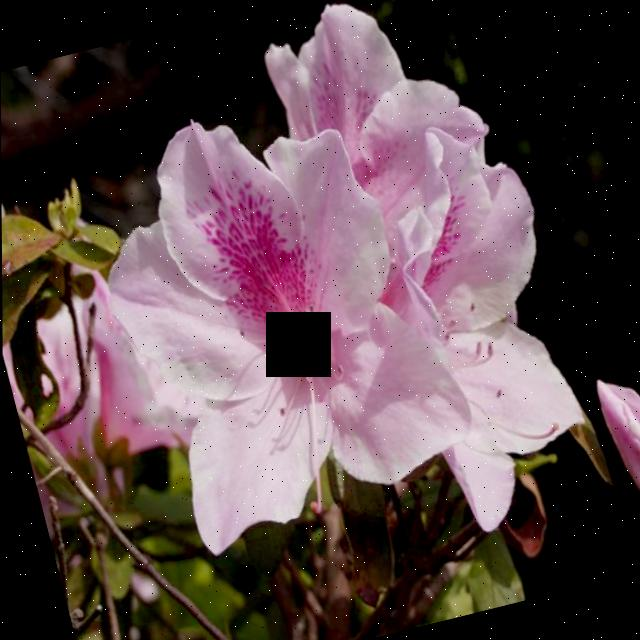azalea: (38, 4, 618, 640)
